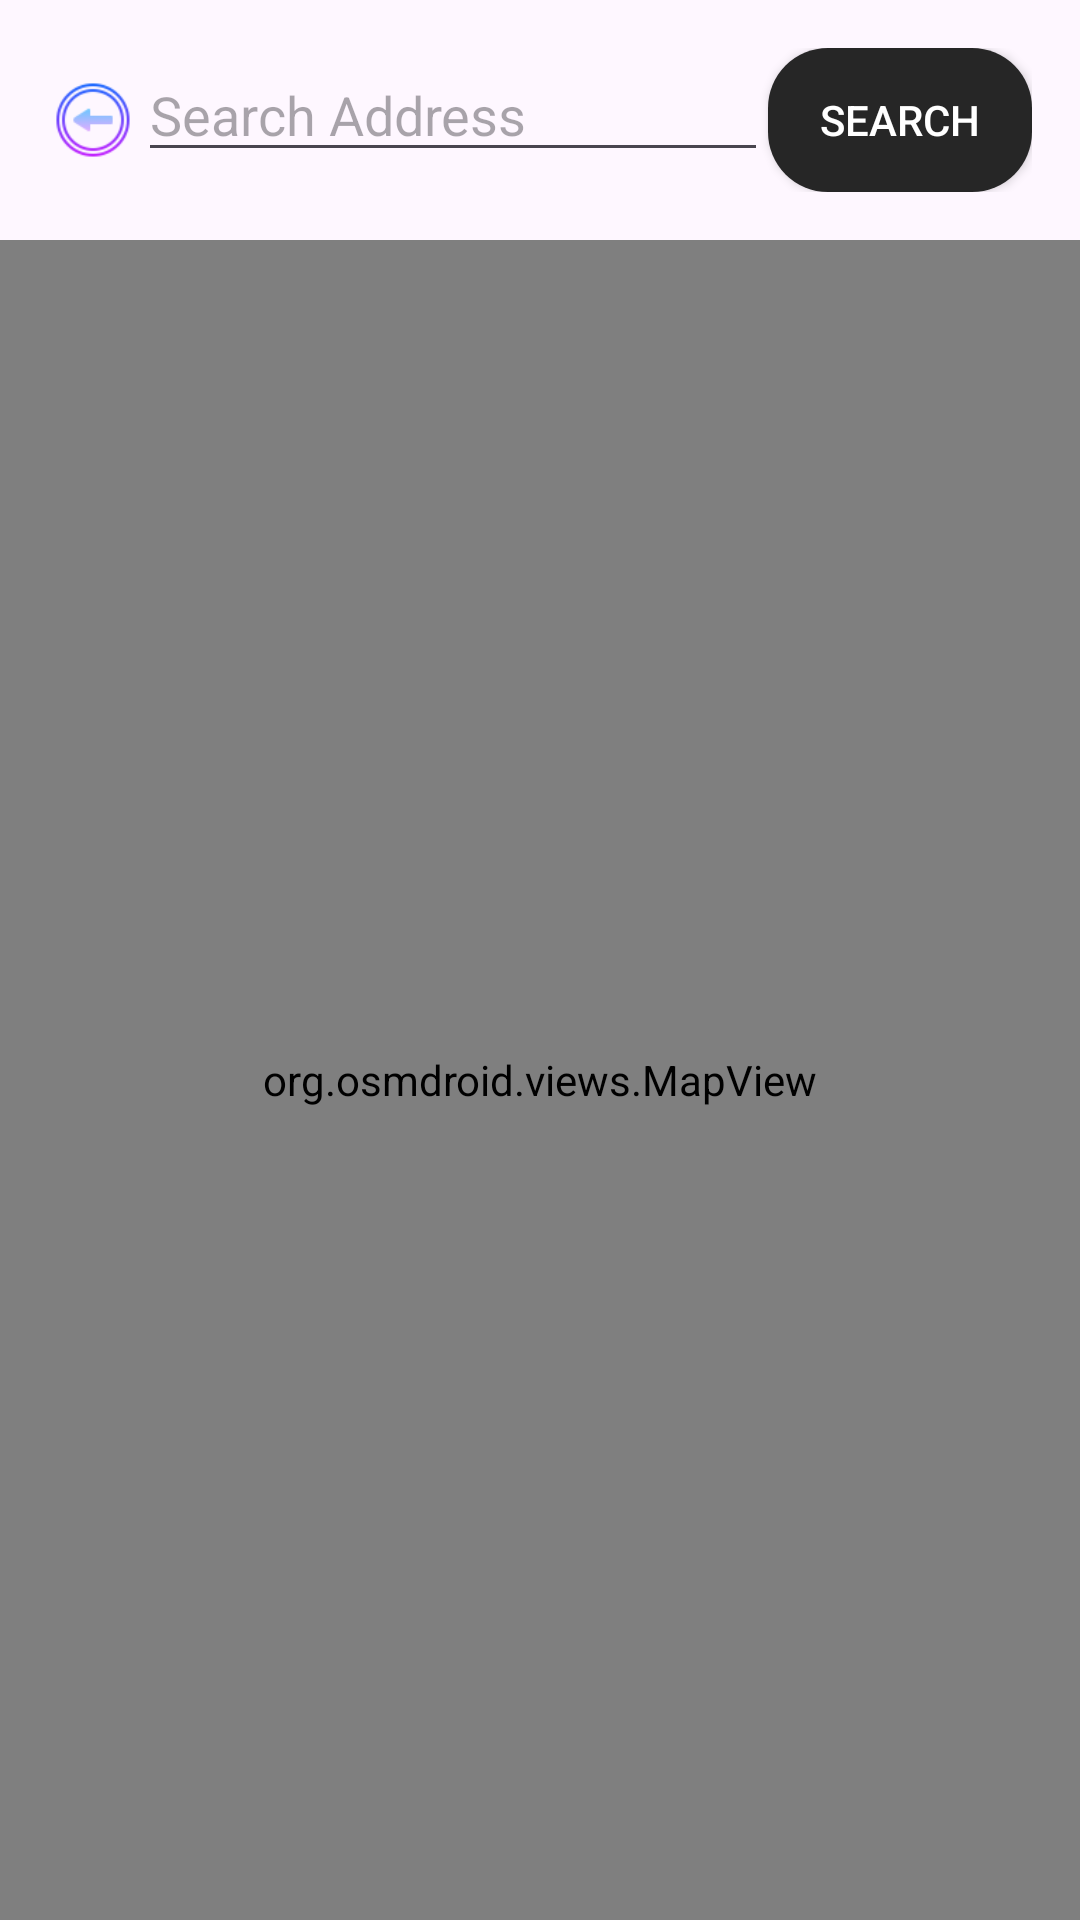

Icon bounding boxes for this 1080px x 1920px phone screenshot, format (x1, y1, x2, y2):
back: (56, 83, 130, 157)
